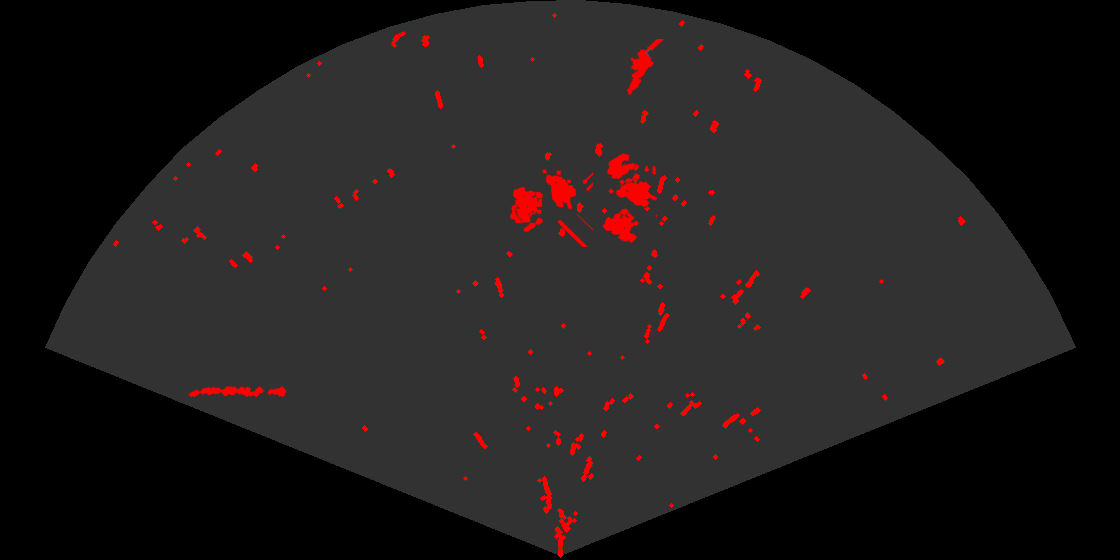ball: (508, 196, 544, 234), (606, 152, 642, 189)
cage: (511, 168, 593, 247), (601, 166, 657, 245)
chain: (187, 384, 287, 399)
frogman: (625, 39, 666, 97)
